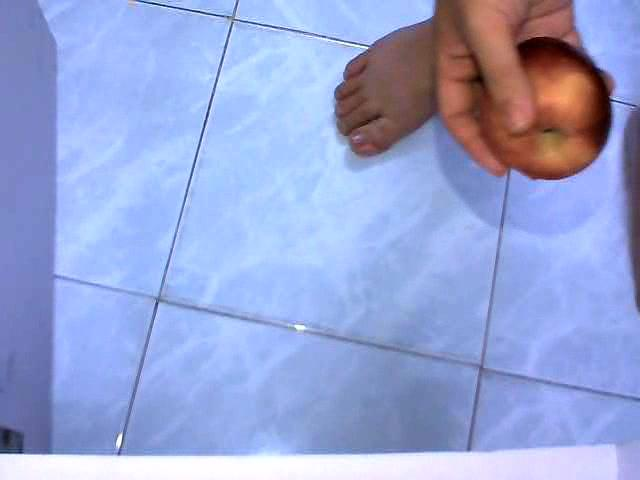apple: (479, 35, 613, 180)
